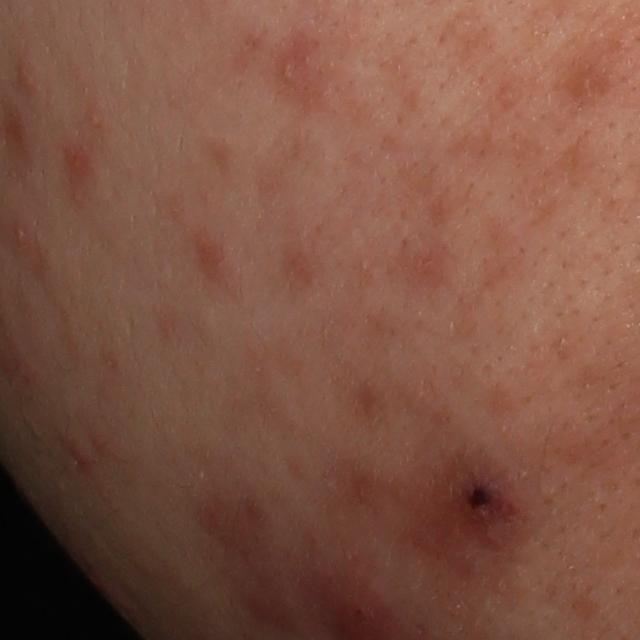papule: (452, 471, 512, 531), (193, 229, 229, 275), (64, 143, 92, 178), (14, 61, 34, 89), (71, 443, 93, 468)
